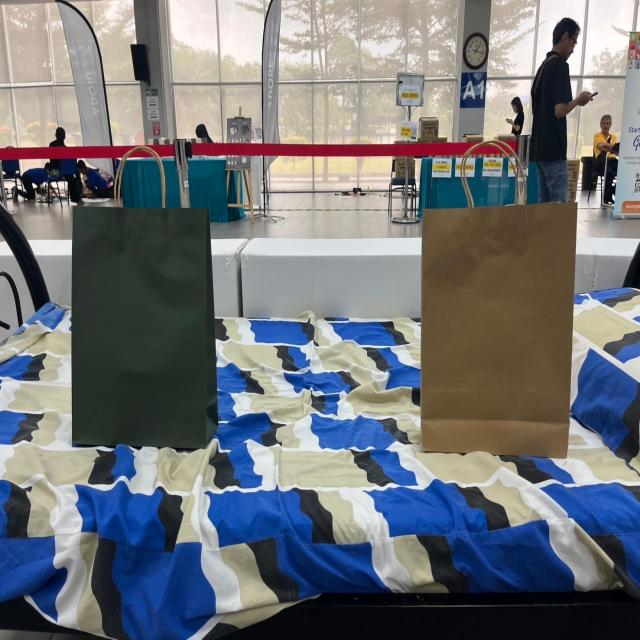bag: (425, 160, 576, 454), (79, 155, 213, 447)
